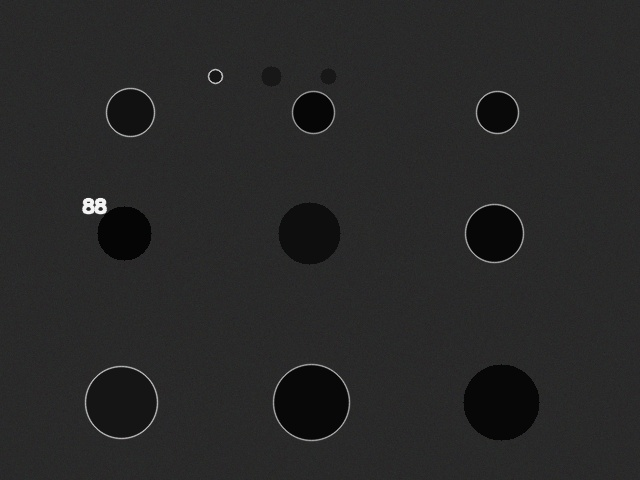hole: (273, 364, 349, 440), (463, 364, 539, 440), (85, 366, 157, 438), (278, 202, 340, 264), (465, 204, 523, 262), (97, 206, 151, 260), (106, 88, 154, 136), (292, 91, 334, 133), (476, 91, 518, 133), (261, 66, 281, 86), (320, 68, 336, 84), (208, 69, 222, 83)
